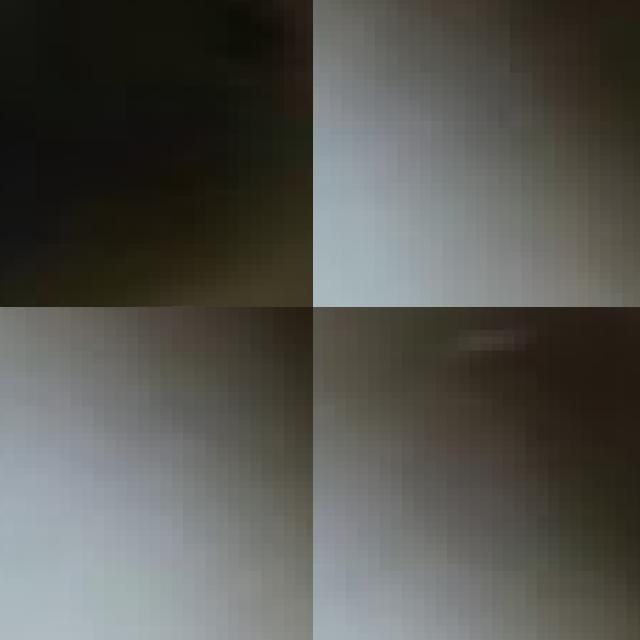fish: (0, 0, 313, 307), (313, 0, 640, 148)
